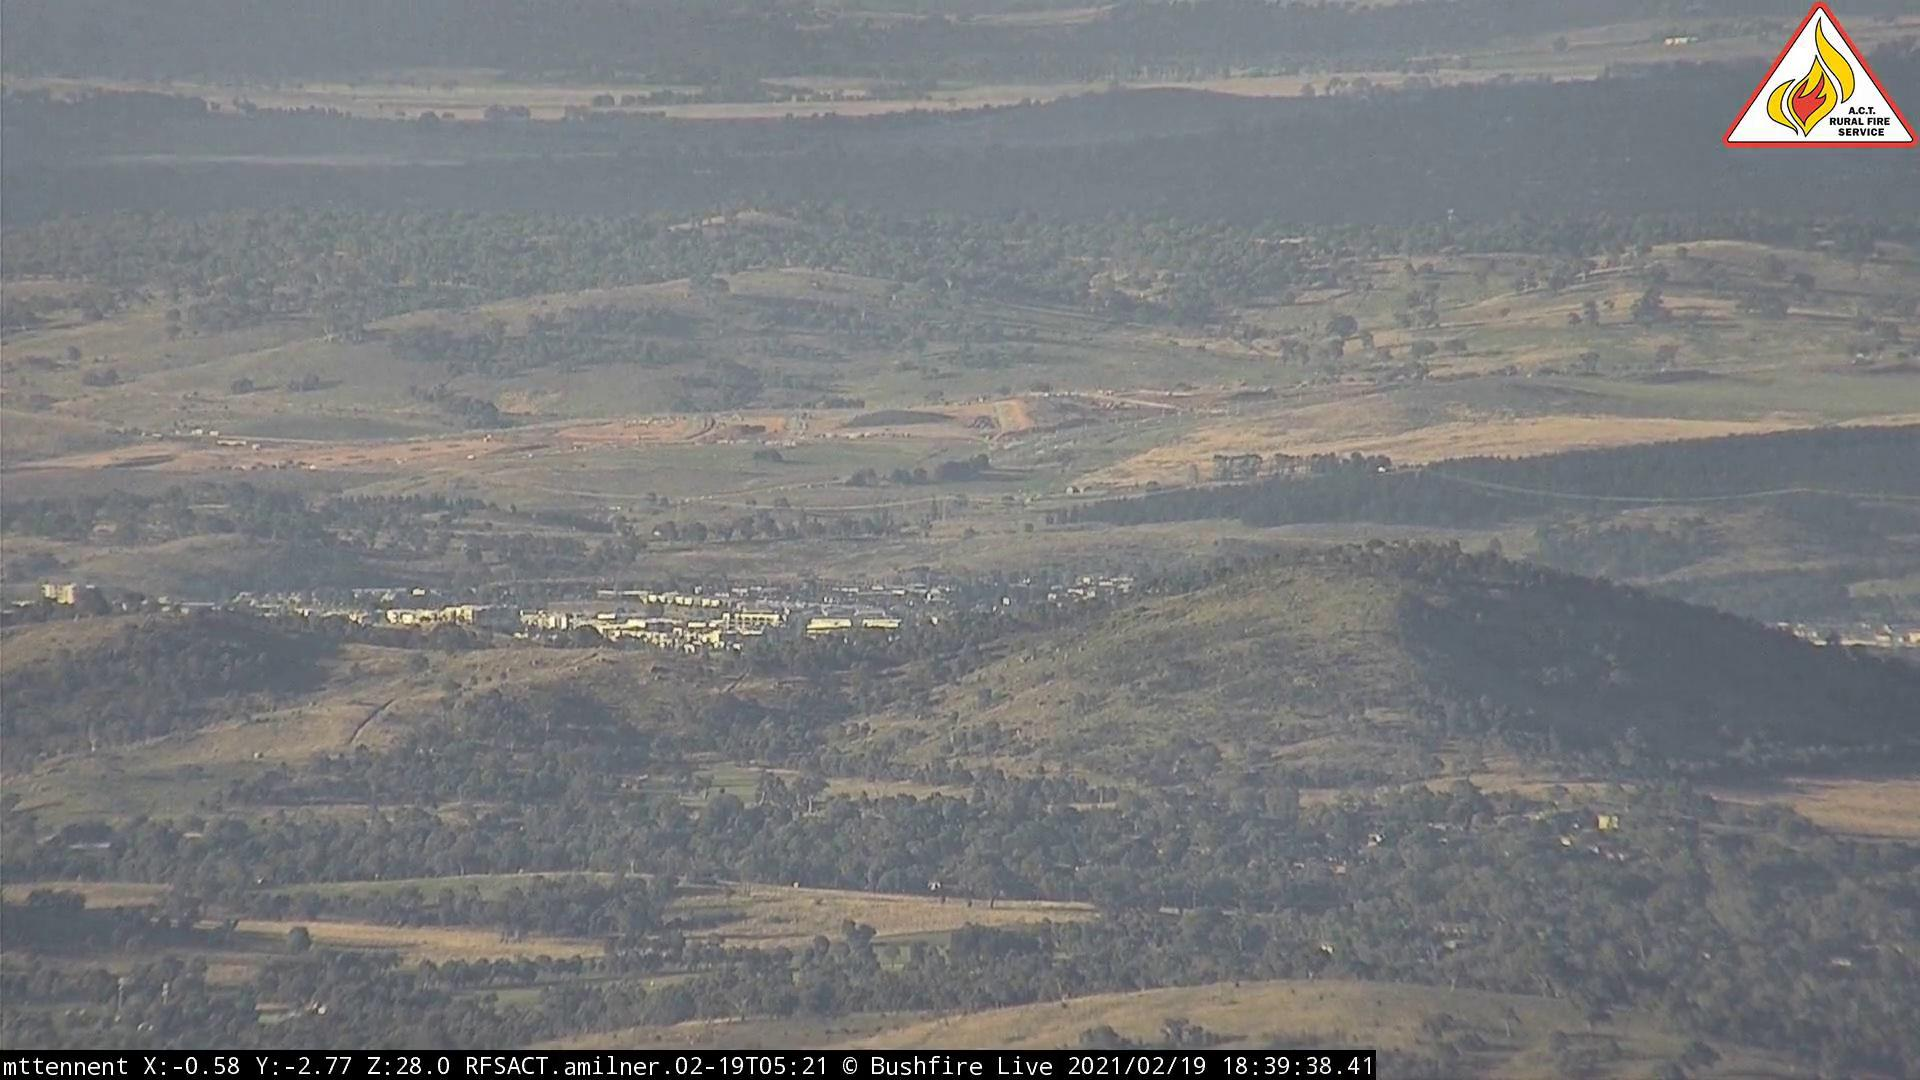Smoke: (607, 504, 645, 553)
